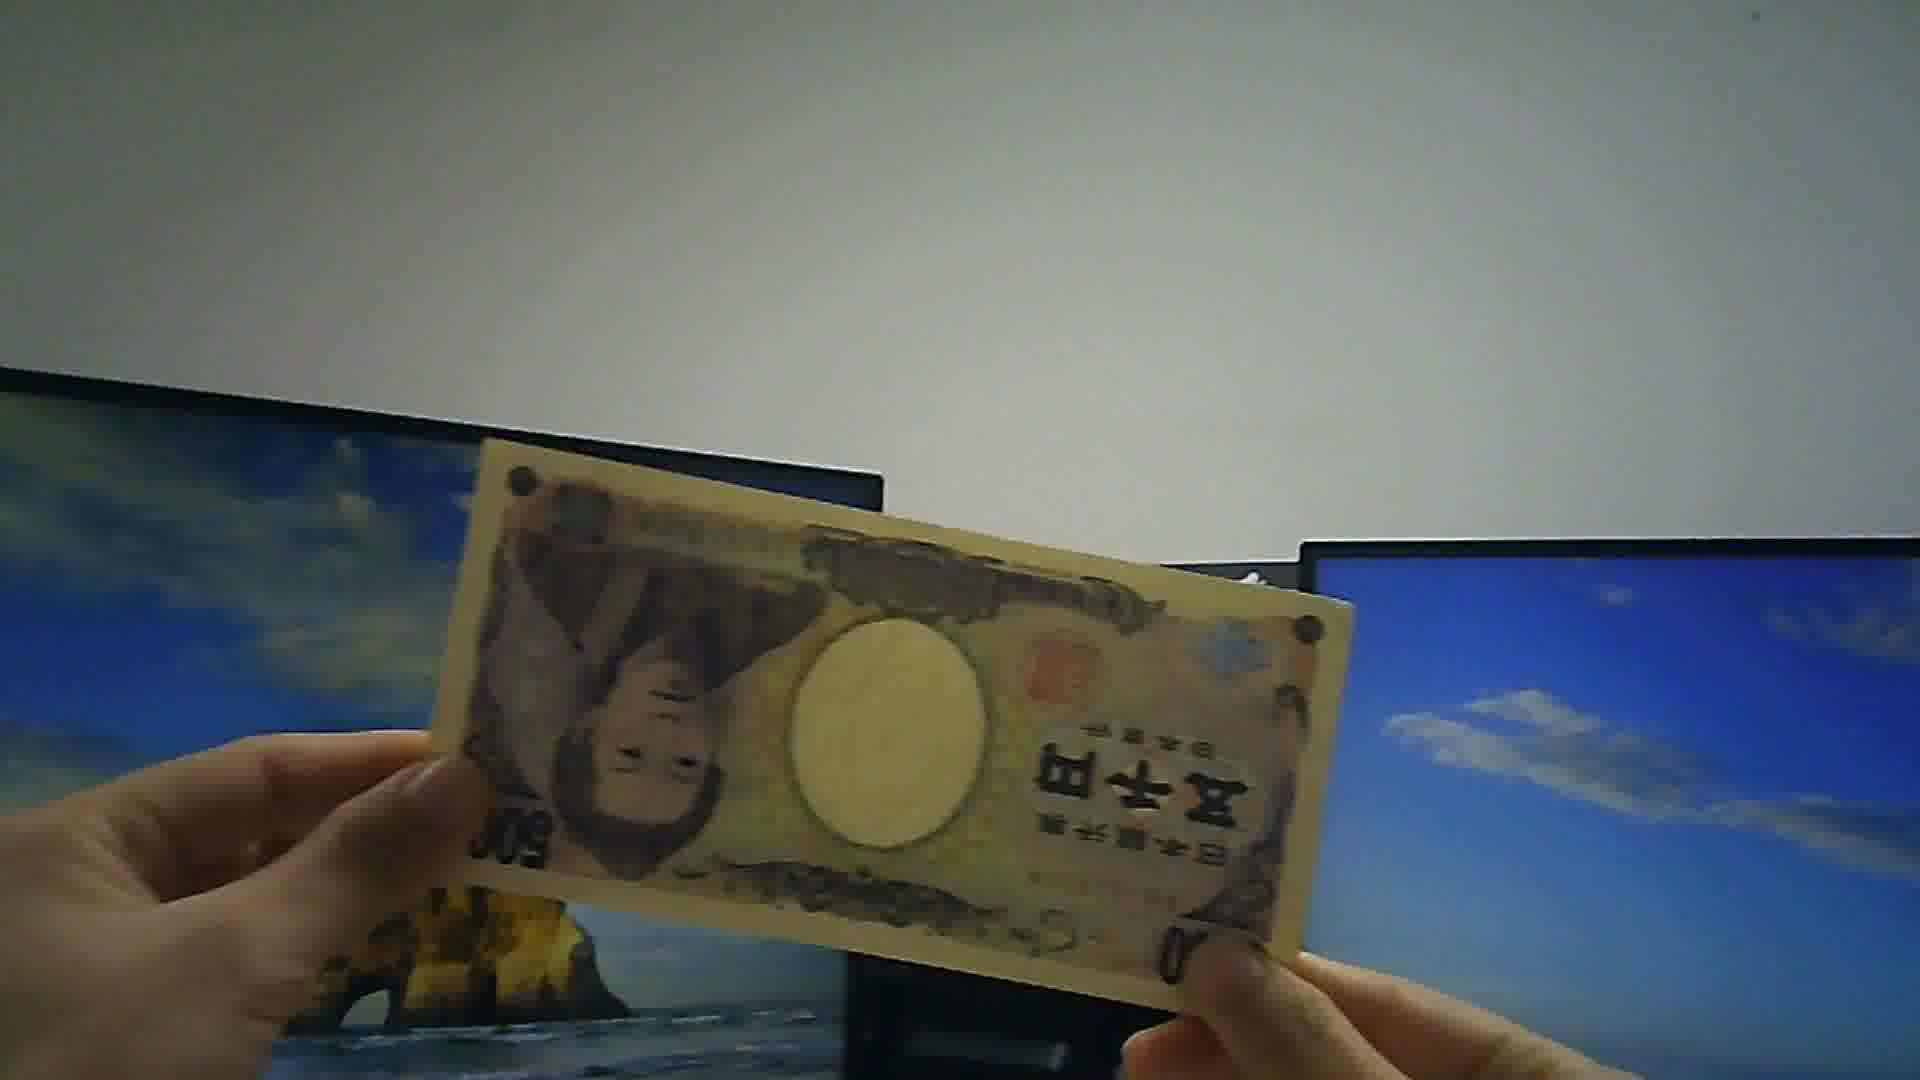5,000 Yen: (414, 433, 1340, 1018)
